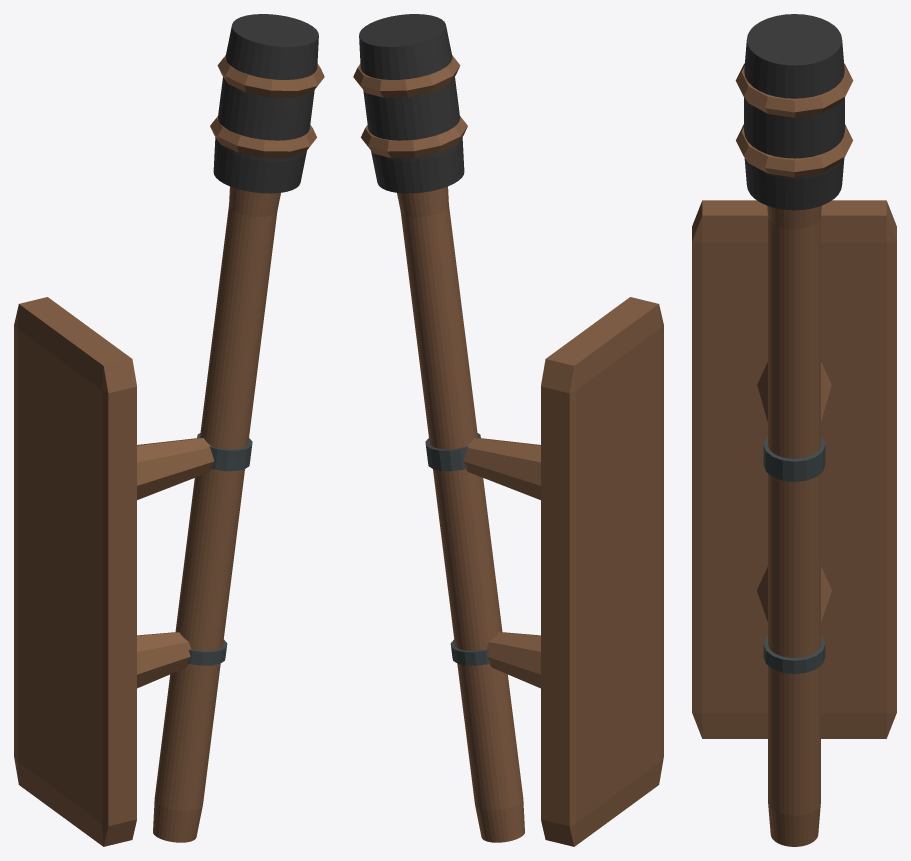
File: Fackel.fbx
3 views of the same model, side by side, from view 1: azimuth 30°, elevation 25°; view 2: azimuth 150°, elevation 25°; view 3: azimuth 270°, elevation 25° (orthographic). The views are drawn at different scales.
Visible parts, largest first — view 1: Cube, Cylinder.002; view 2: Cube, Cylinder.002; view 3: Cube, Cylinder.002.
Part boxes in pixels (box(x1,y1,x2,y2)): Cube: box(14, 297, 214, 846); Cylinder.002: box(153, 14, 324, 842); Cube: box(463, 297, 663, 846); Cylinder.002: box(353, 14, 524, 842); Cube: box(692, 200, 896, 738); Cylinder.002: box(735, 14, 853, 846).
Bounding box in the file's own units: 58.5 × 171 × 37.01.
